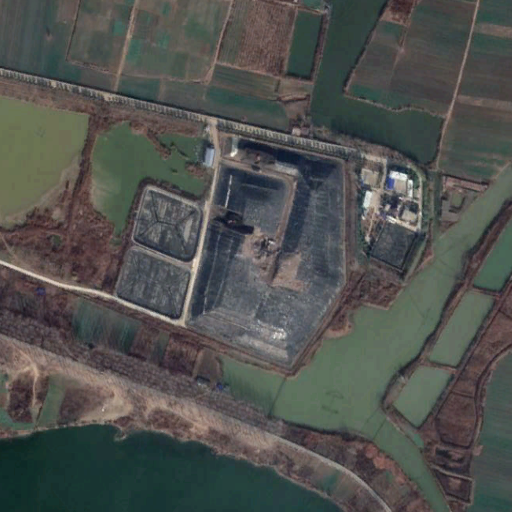lf: (197, 134, 346, 368)
